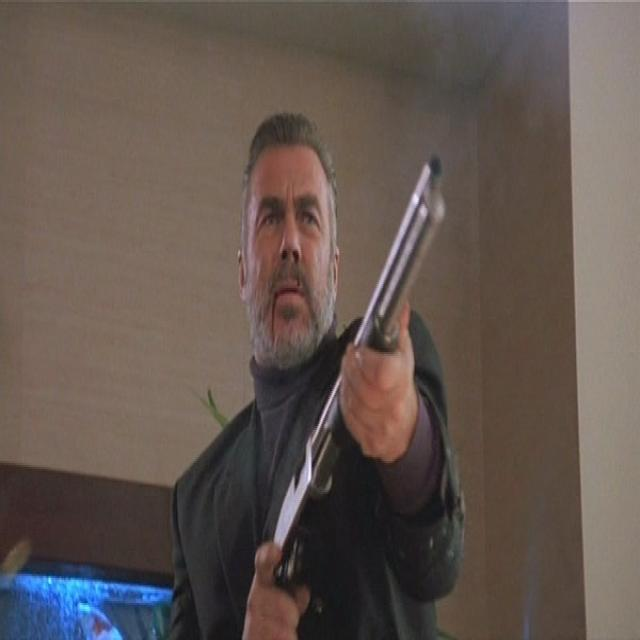rifle: (275, 151, 450, 591)
